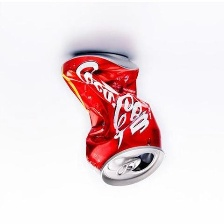can: (57, 46, 167, 188)
